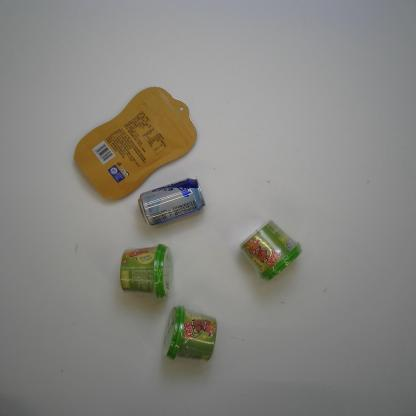Alcohol: (138, 178, 206, 226)
Dried Fruit: (73, 86, 198, 201)
Instant Drink: (239, 218, 304, 283), (161, 305, 217, 362), (119, 243, 174, 300)
